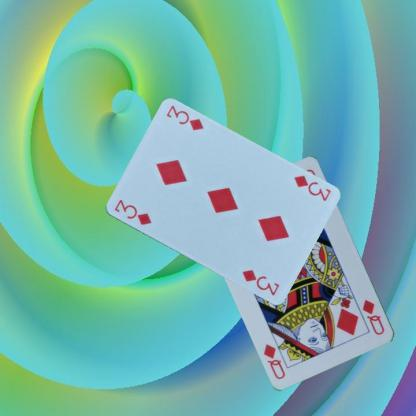3d: (290, 172, 332, 203), (112, 197, 152, 226)
Qd: (360, 297, 386, 337)
